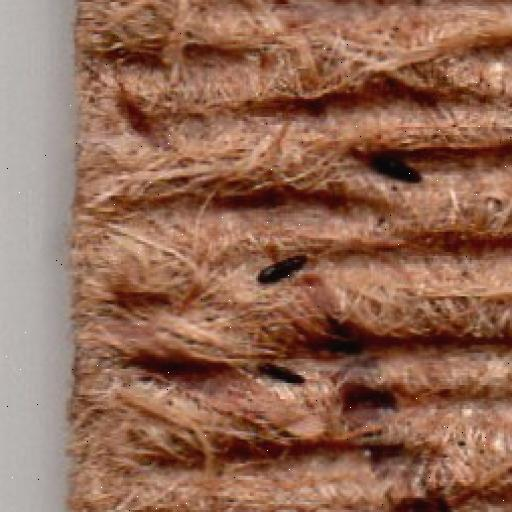egg: (372, 158, 412, 182), (260, 257, 301, 280), (259, 366, 302, 382)
